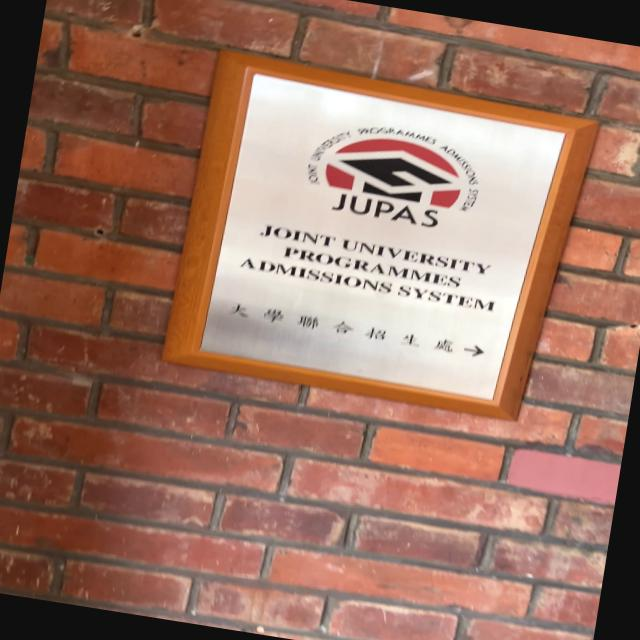jupasOffice: (148, 32, 630, 442)
